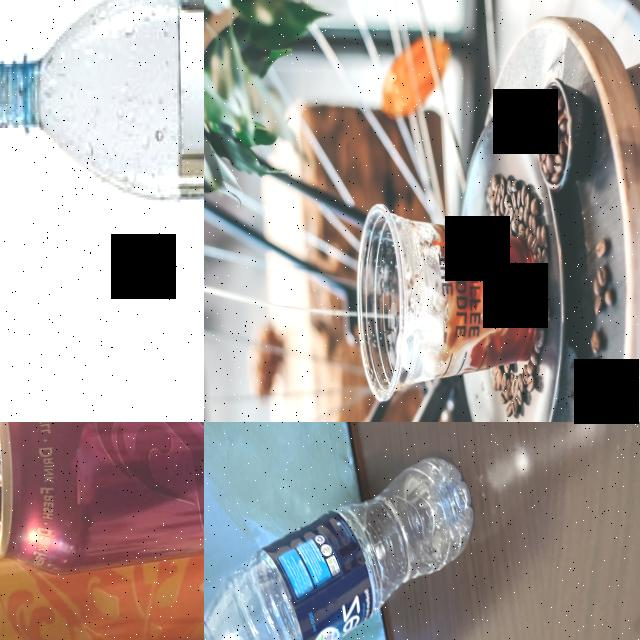bottle: (204, 448, 477, 640), (0, 0, 204, 211)
can: (0, 422, 204, 576)
cup: (353, 194, 542, 407)
